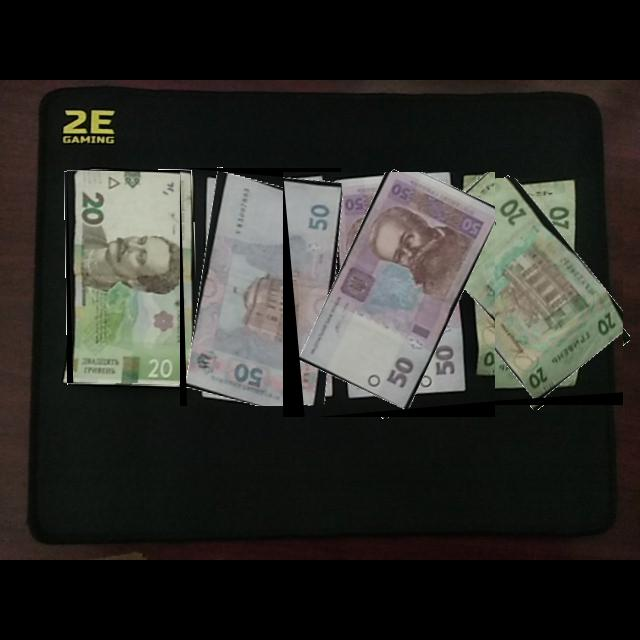20uah: (415, 178, 624, 401), (72, 171, 190, 384)
50uah: (297, 172, 496, 411), (185, 172, 342, 407)
